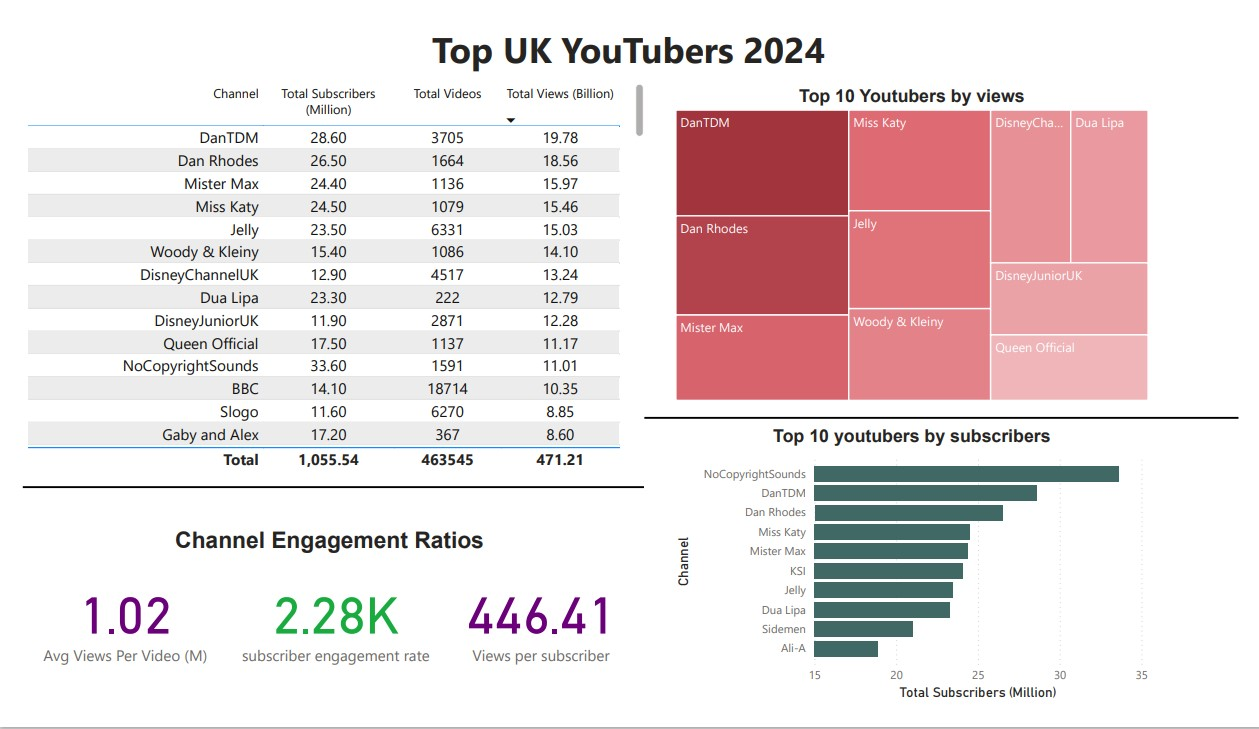

This screenshot's page, from the dashboard's own definition file:
{"tool":"powerbi","page":{"name":"Page 1","canvas":[1280,720],"ordinal":0},"visuals":[{"type":"textbox","box":[425.6,0,428.7,76.6],"z":0},{"type":"tableEx","fields":{"Values":["view_UK_Youtubers_2024.channel_name","view_UK_Youtubers_2024.Total Subscribers (M)","view_UK_Youtubers_2024.Total Videos","view_UK_Youtubers_2024.Total Views (B)"]},"box":[0,61.2,659.4,417.5],"z":1000},{"type":"treemap","title":"Top 10 Youtubers by views","fields":{"Group":["view_UK_Youtubers_2024.channel_name"],"Values":["view_UK_Youtubers_2024.Total Views (B)"]},"box":[682.9,68.4,507.3,336.8],"z":2000},{"type":"card","fields":{"Values":["view_UK_Youtubers_2024.Avg Views Per Video (M)"]},"box":[0,541,216.4,178.6],"z":3000},{"type":"card","fields":{"Values":["view_UK_Youtubers_2024.subscriber engagement rate"]},"box":[221.5,541,216.4,178.6],"z":4000},{"type":"card","fields":{"Values":["view_UK_Youtubers_2024.Views per subscriber"]},"box":[437.9,541,216.4,178.6],"z":5000},{"type":"clusteredBarChart","title":"Top 10 youtubers by subscribers","fields":{"Category":["view_UK_Youtubers_2024.channel_name"],"Y":["view_UK_Youtubers_2024.Total Subscribers (Million)"]},"box":[682.9,426.7,507.3,293],"z":6000},{"type":"textbox","box":[155.2,527.7,349.1,45.9],"z":7000},{"type":"shape","box":[0,478.7,654.3,25.5],"z":8000},{"type":"shape","box":[654.3,344,625.7,148],"z":9000}]}

Visuals, with their boxes in screenshot pixels (x1, y1, x2, y2), scaled from the page's 1280x720 canvas onto the 1259x729 screenshot:
textbox: rect(419, 0, 840, 78)
tableEx - view_UK_Youtubers_2024.channel_name x view_UK_Youtubers_2024.Total Subscribers (M): rect(0, 62, 649, 485)
"Top 10 Youtubers by views" treemap: rect(672, 69, 1171, 410)
card - view_UK_Youtubers_2024.Avg Views Per Video (M): rect(0, 548, 213, 728)
card - view_UK_Youtubers_2024.subscriber engagement rate: rect(218, 548, 431, 728)
card - view_UK_Youtubers_2024.Views per subscriber: rect(431, 548, 644, 728)
"Top 10 youtubers by subscribers" clusteredBarChart: rect(672, 432, 1171, 728)
textbox: rect(153, 534, 496, 581)
shape: rect(0, 485, 644, 511)
shape: rect(644, 348, 1258, 498)
